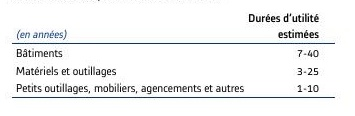table: (0, 0, 355, 116)
